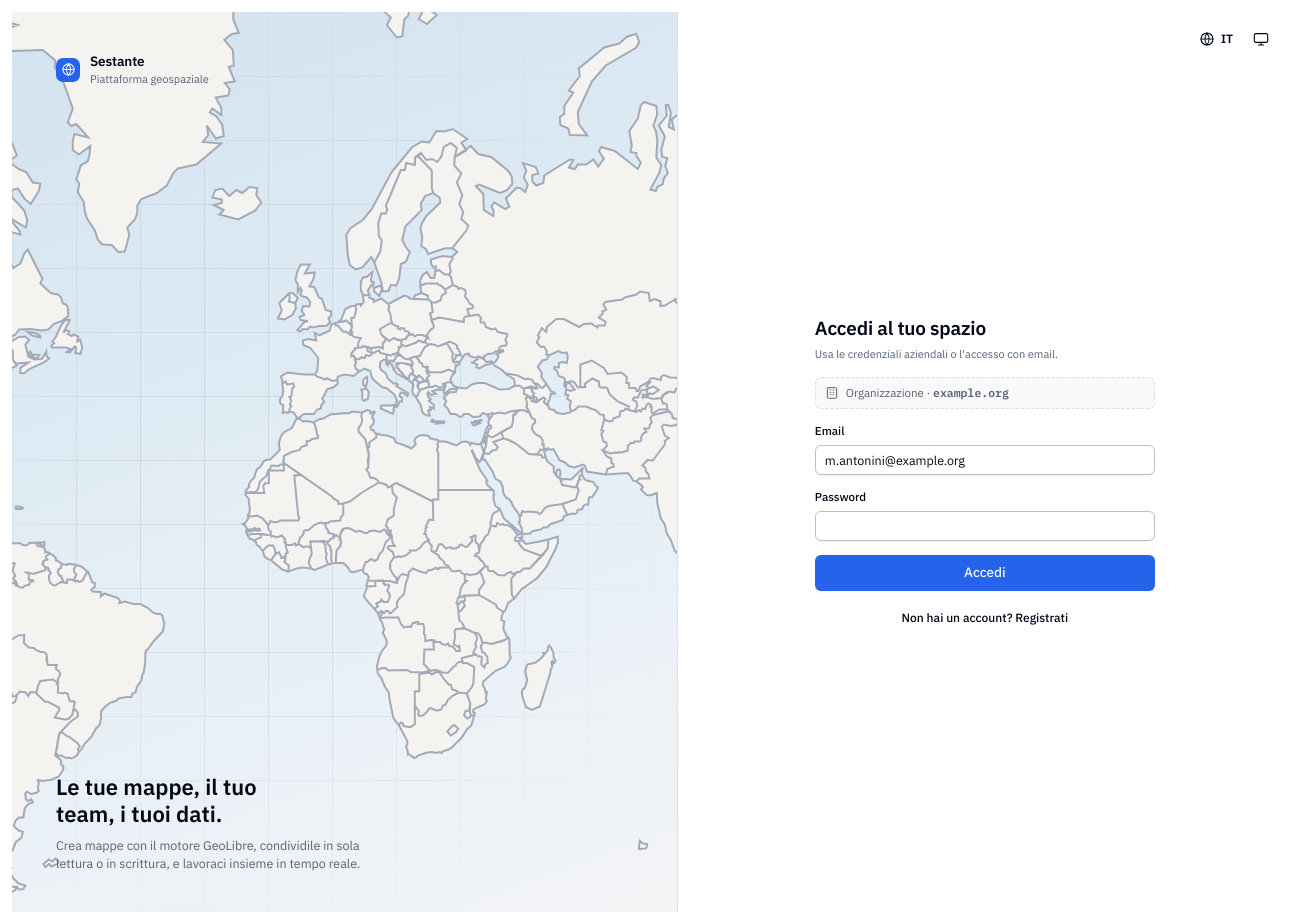
Test case: schermata d'accesso › la registrazione si offre solo se il server la permette
The width and height of the screenshot is (1292, 912).
Click the button "Non hai un account? Registrati". click: (985, 618)
box: [815,605,1155,631]
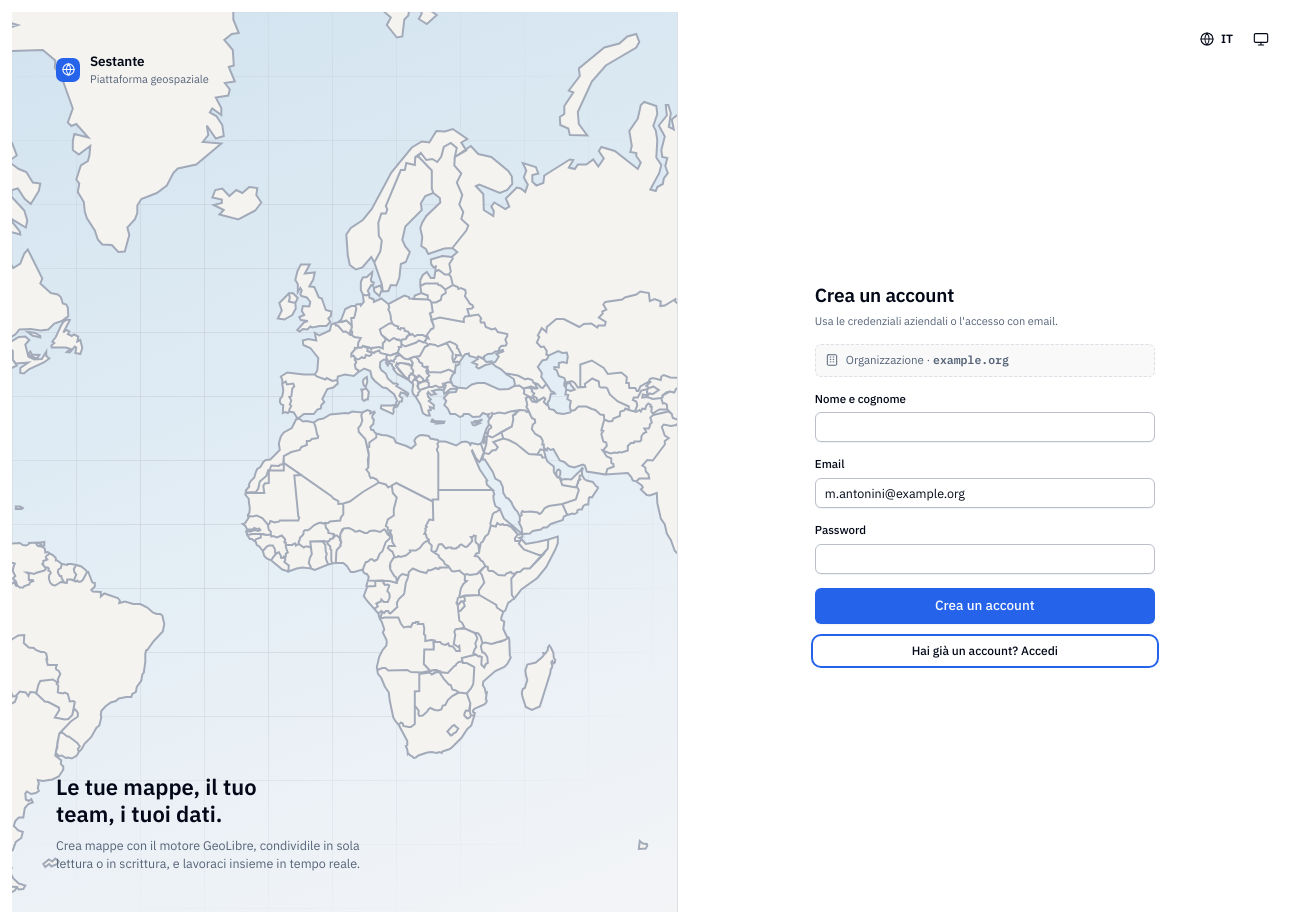
Now the field labelled "Nome e cognome" is shown, box [815,412,1155,442]
